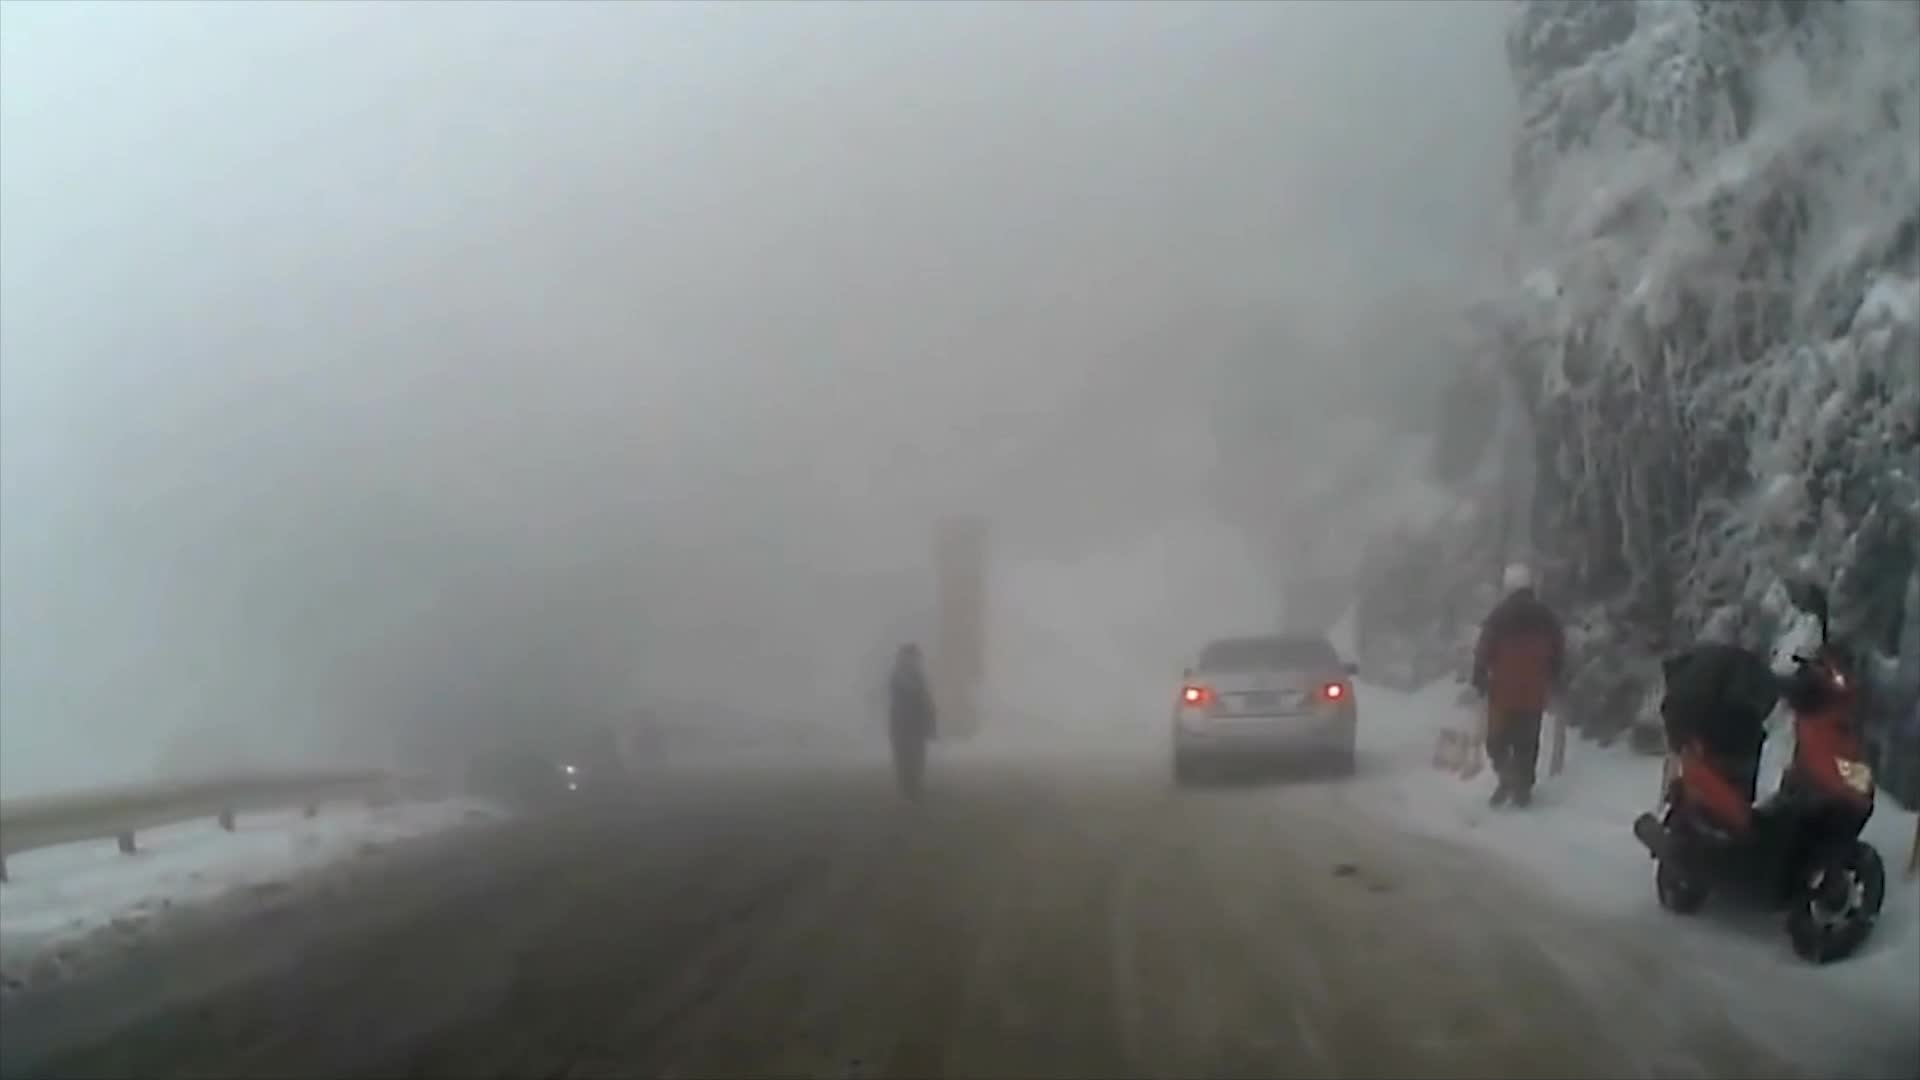pedestrian: (1470, 564, 1576, 816), (883, 642, 934, 807)
vehicle: (1171, 633, 1363, 790)
